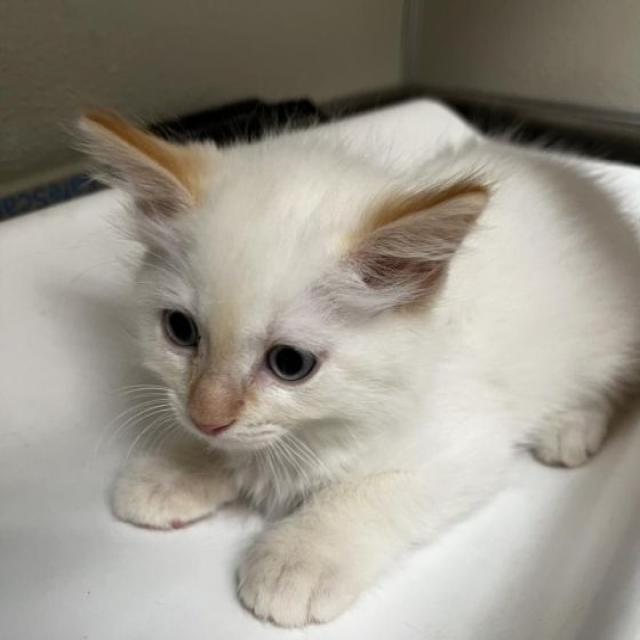siamese_cat: (46, 67, 500, 466)
